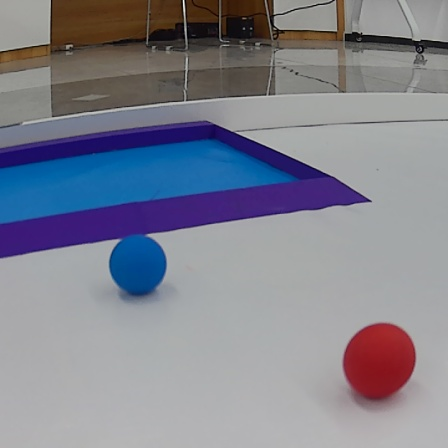blue: (109, 234, 171, 296)
blue_aim: (0, 119, 391, 262)
red: (339, 322, 422, 404)
